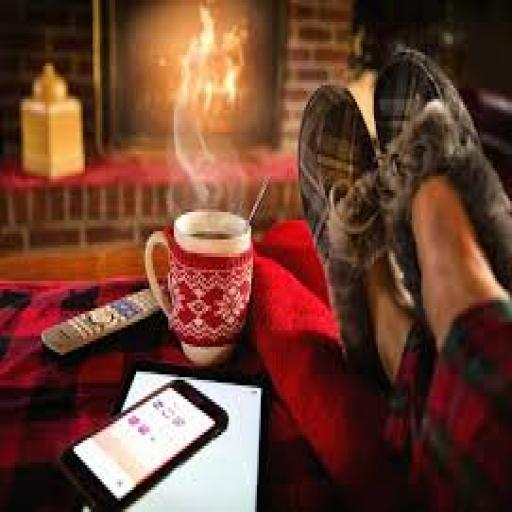phone: (61, 380, 228, 509)
red mug: (146, 210, 253, 366)
